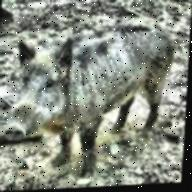boar: (5, 12, 186, 166)
